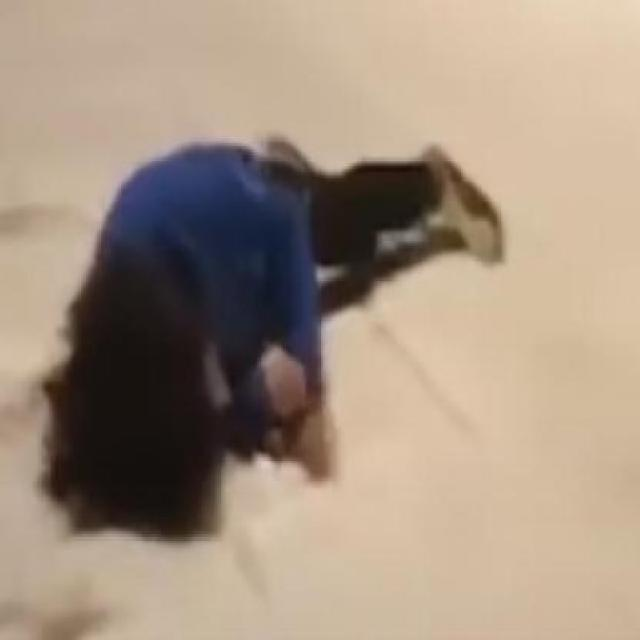fall: (56, 140, 507, 538)
